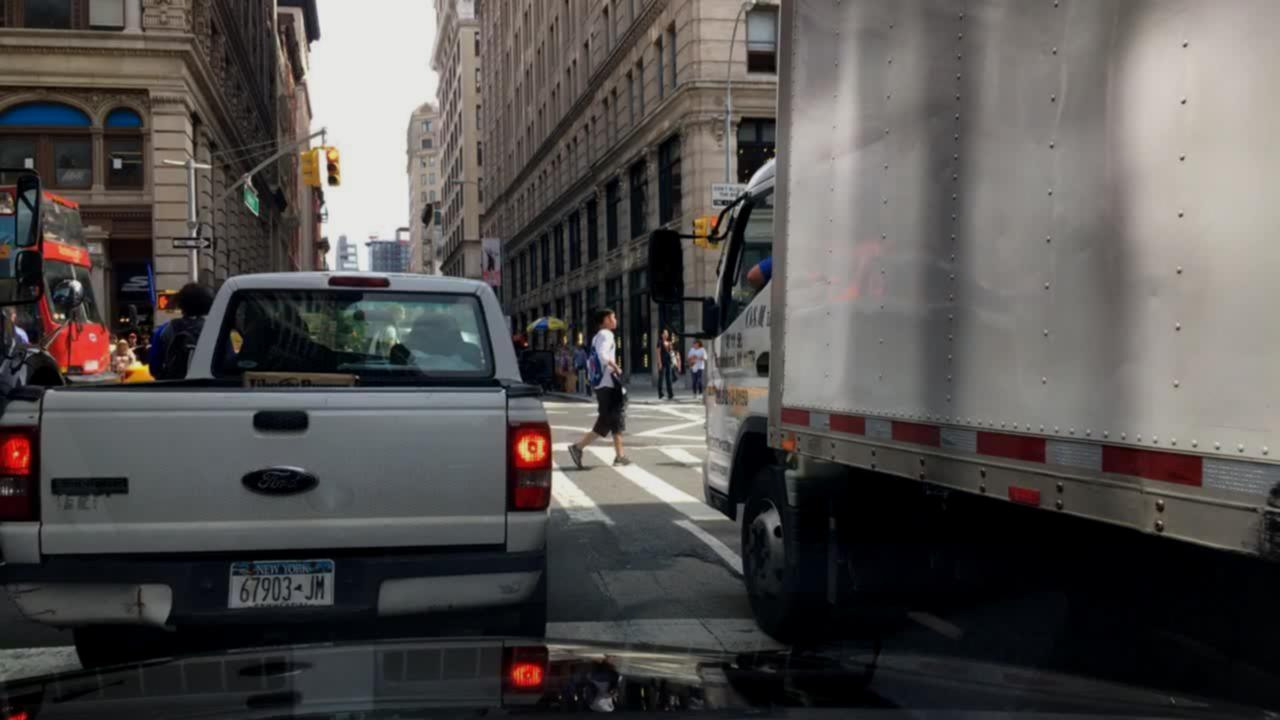ford: (236, 456, 337, 502)
